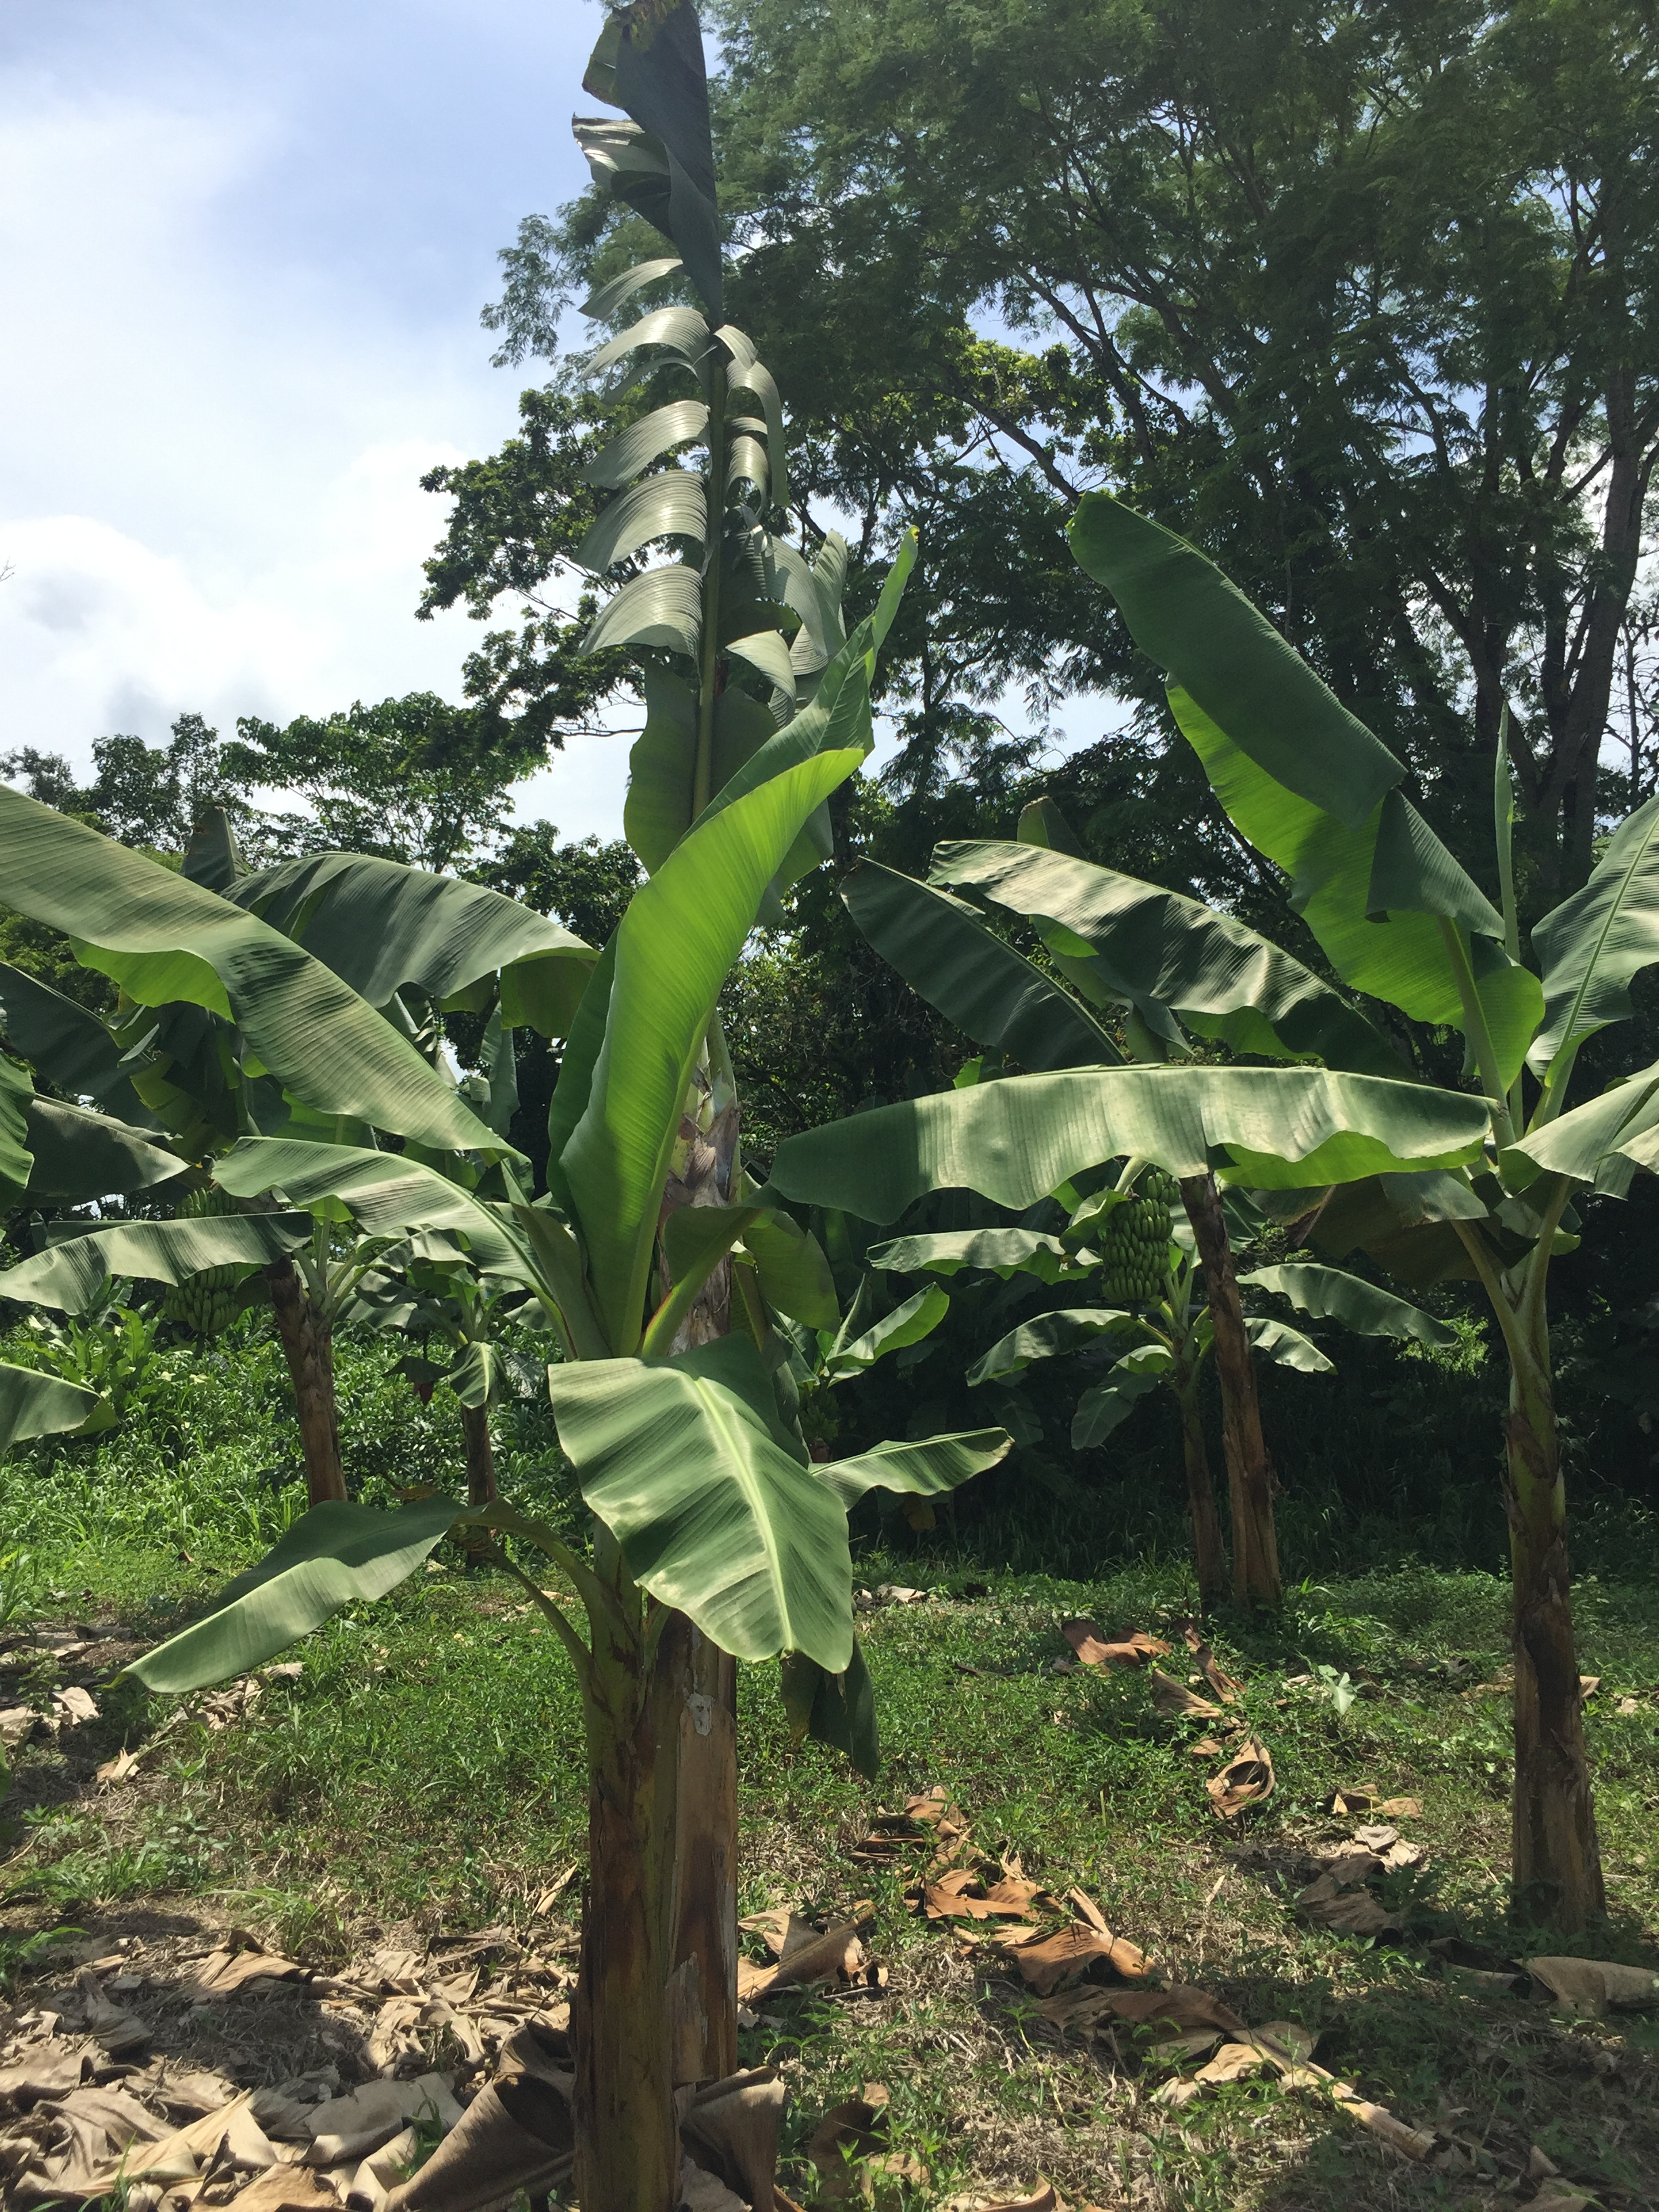candleleafs: (1492, 695, 1521, 967)
